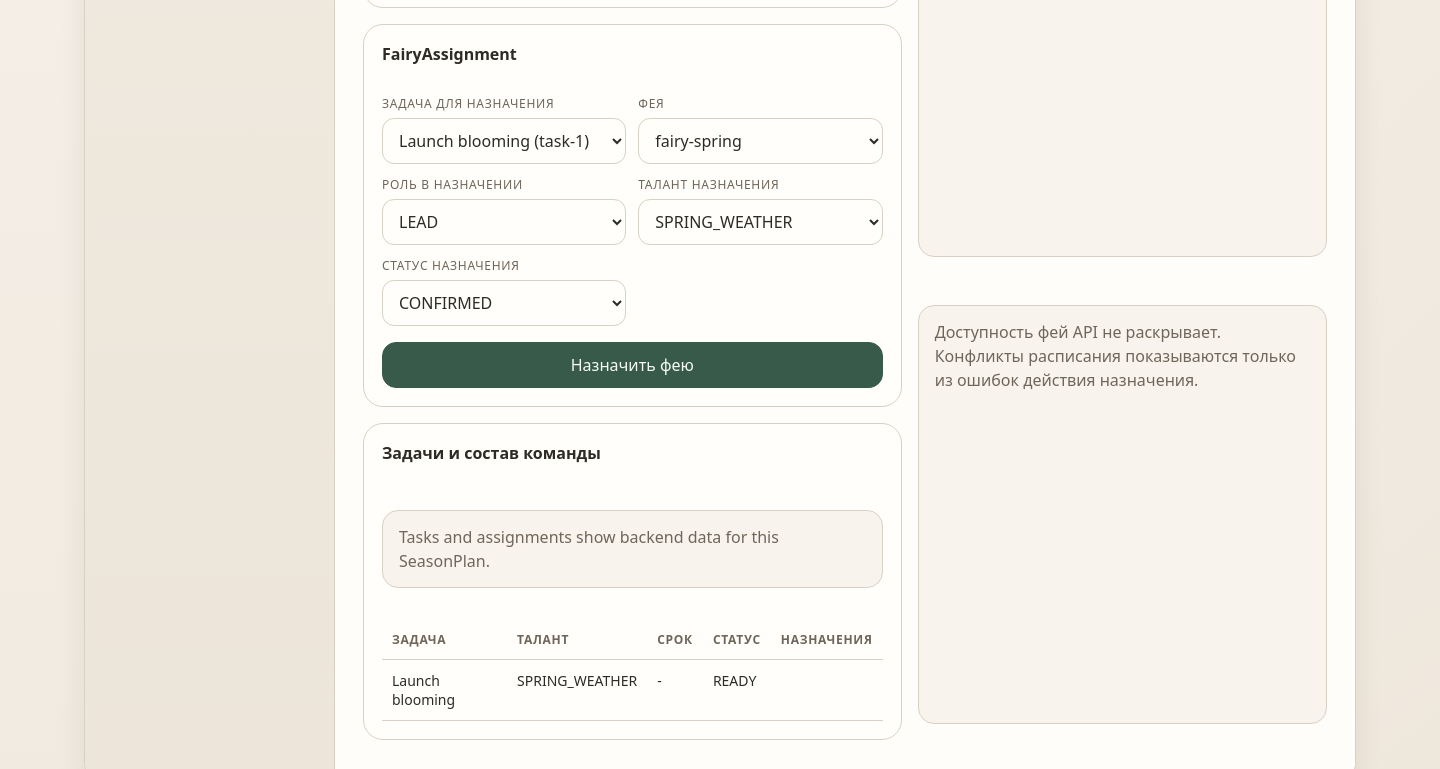
Scenario: PreparationPage › shows assignment schedule and talent errors
The width and height of the screenshot is (1440, 769).
(page scrolled)
Click the button "Назначить фею" at (632, 365), box [382,342,883,388]
(page scrolled)
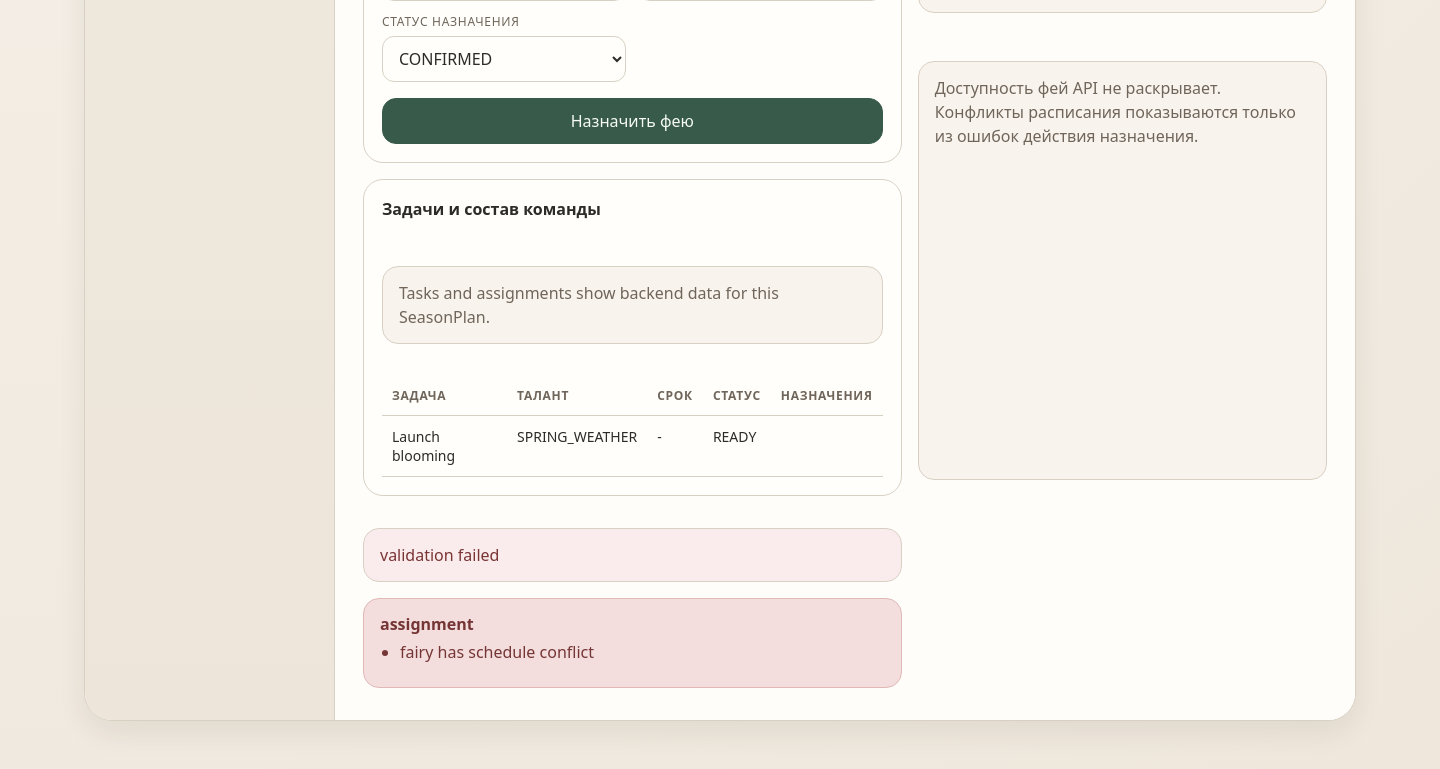
Result: the list item "fairy has schedule conflict" is shown at [400,641,594,663]
